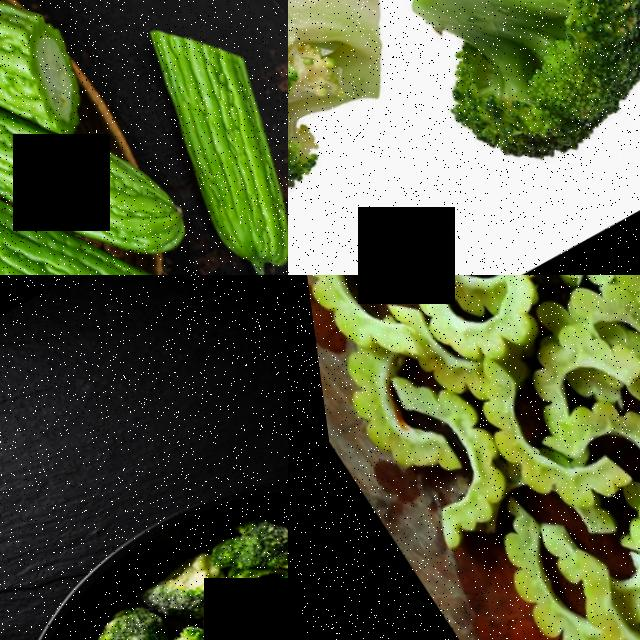-: (350, 0, 640, 172), (125, 533, 239, 625), (177, 560, 288, 640), (208, 496, 288, 584), (58, 599, 169, 640)
bitter gourd: (61, 0, 288, 275), (13, 109, 186, 265), (10, 219, 243, 275), (0, 0, 90, 138)
broccoli: (288, 0, 435, 230)
